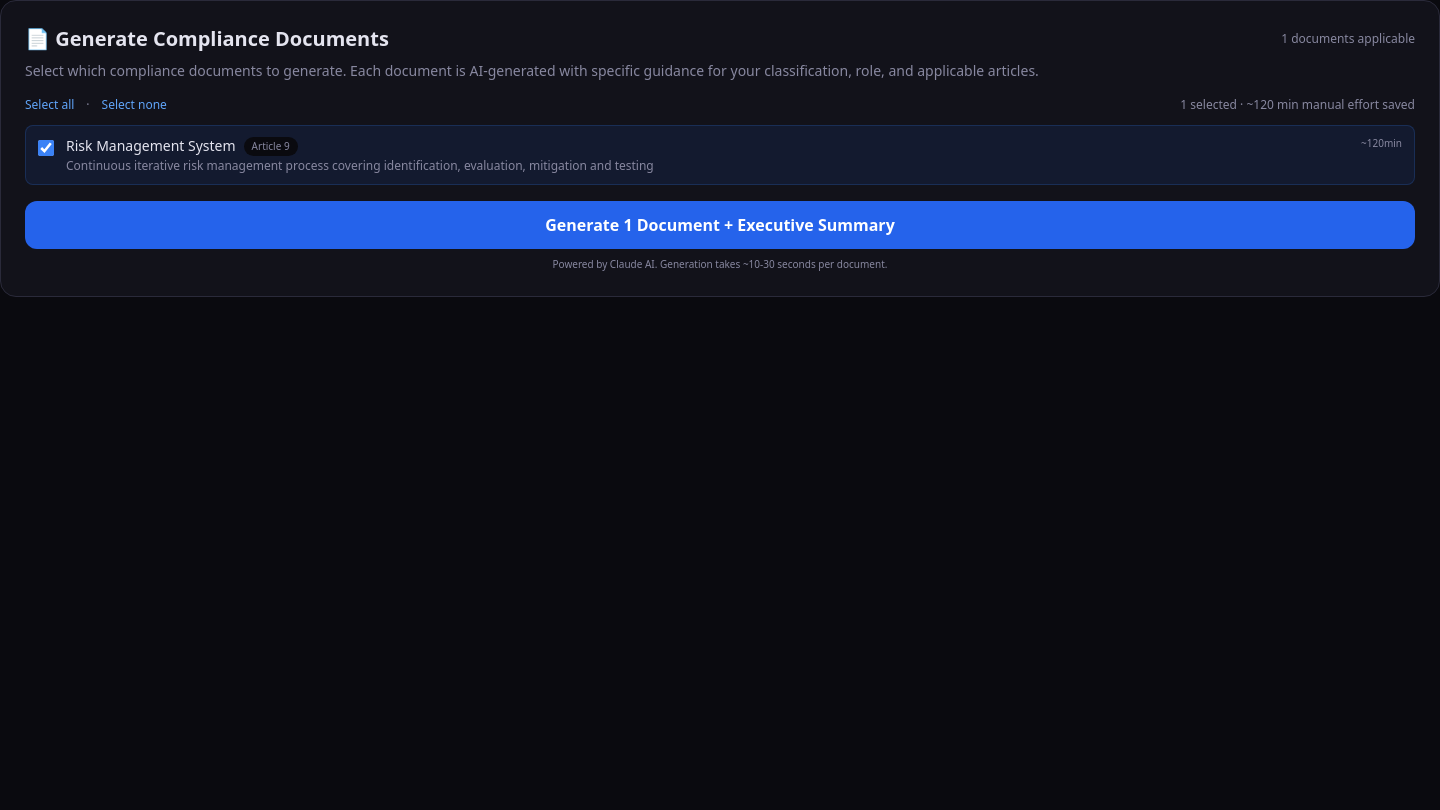
Test: L6-DG-D: Done state › DG-D05: clicking View opens DocumentViewer
Step 1. Click the button "Generate 1 Document + Executive Summary" → (720, 225), box [25,201,1415,249]
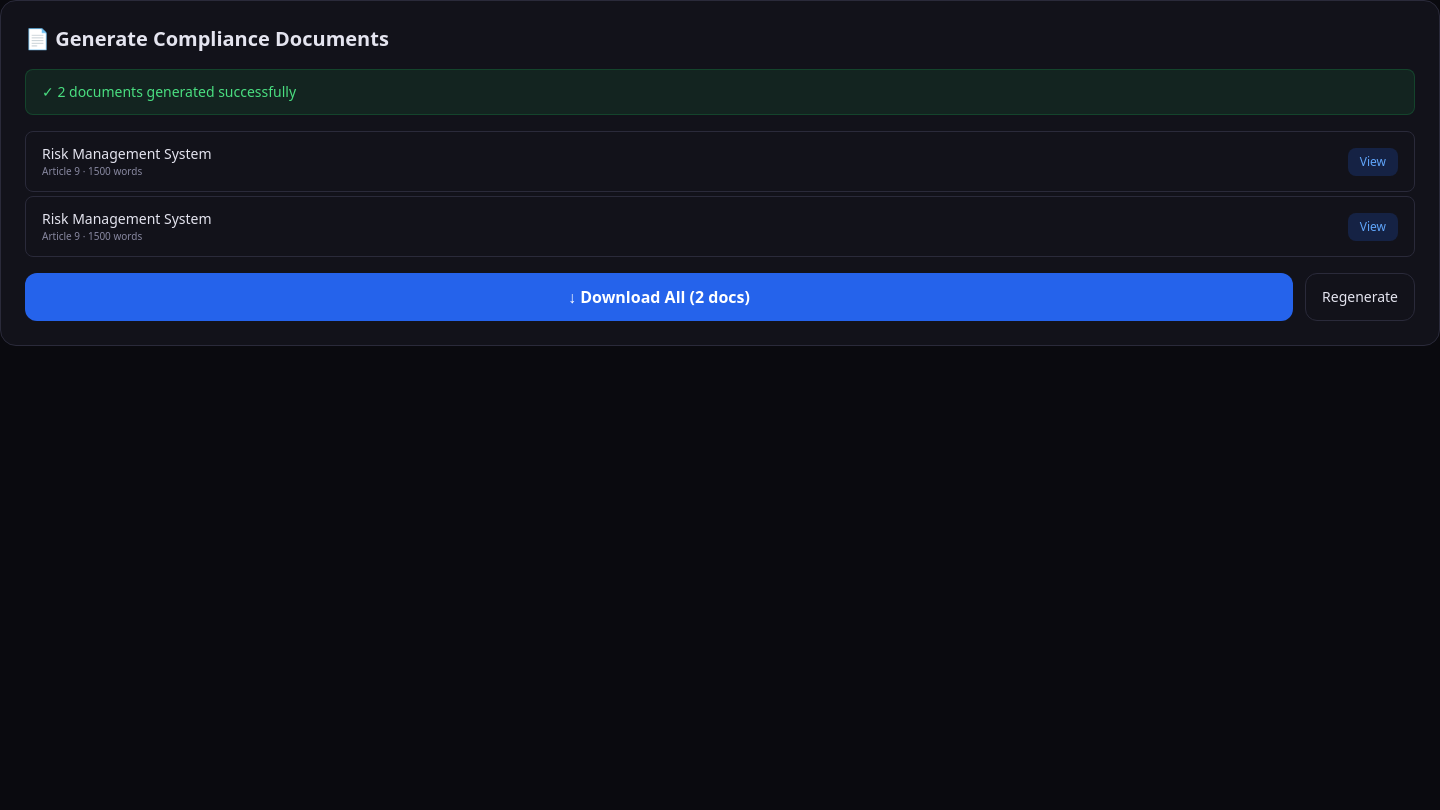
Step 2. Click the 1st button "View" → (1373, 162), box [1348,148,1398,176]
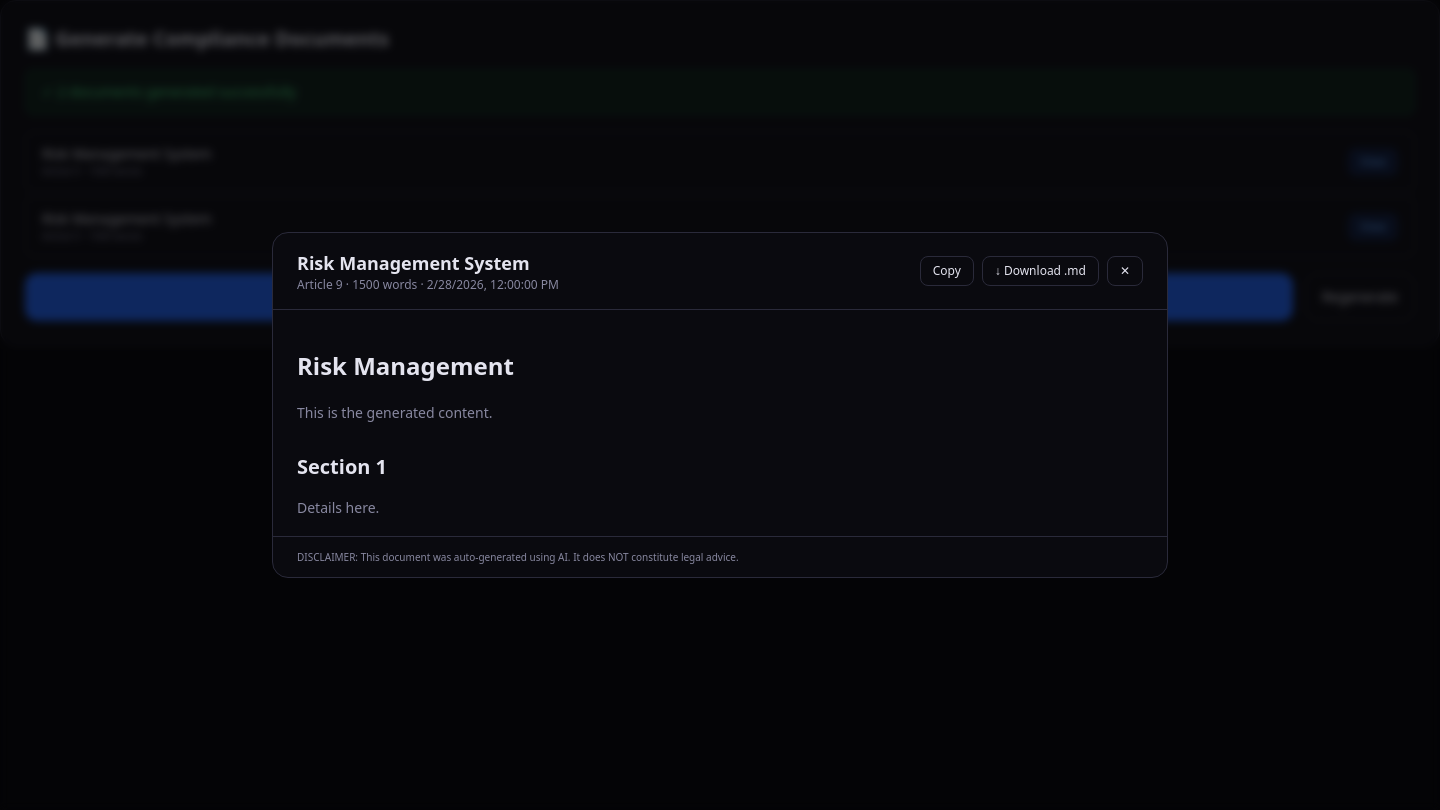
Expected: the button "✕" is shown, [1107,256,1143,286]
